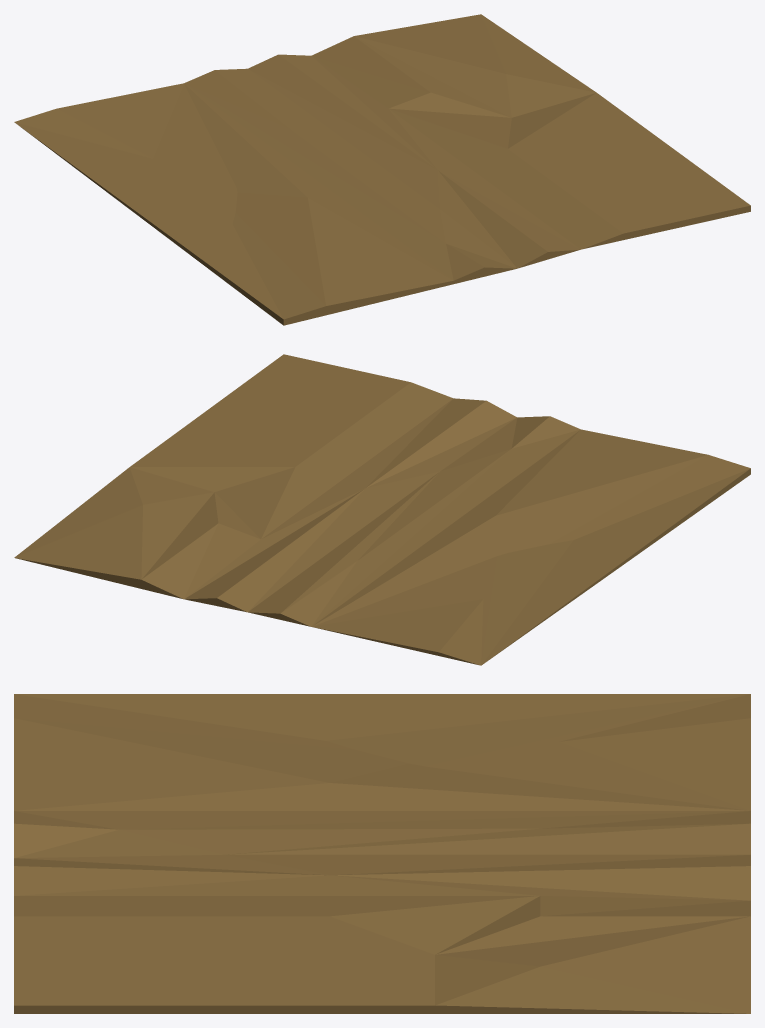
File: soil-patch.lod2.glb
3 views of the same model, one above another, from view 1: azimuth 30°, elevation 25°; view 2: azimuth 150°, elevation 25°; view 3: azimuth 270°, elevation 25° (orthographic). The views are drawn at different scales.
Parts seen in each view (by area): view 1: Soil_0; view 2: Soil_0; view 3: Soil_0.
Boxes of the visible parts, x1,y1,x2,y2 form: Soil_0: (14, 14, 750, 325); Soil_0: (14, 354, 750, 665); Soil_0: (14, 694, 750, 1013).
Bounding box in the file's own units: 9 × 0.1703 × 9.
